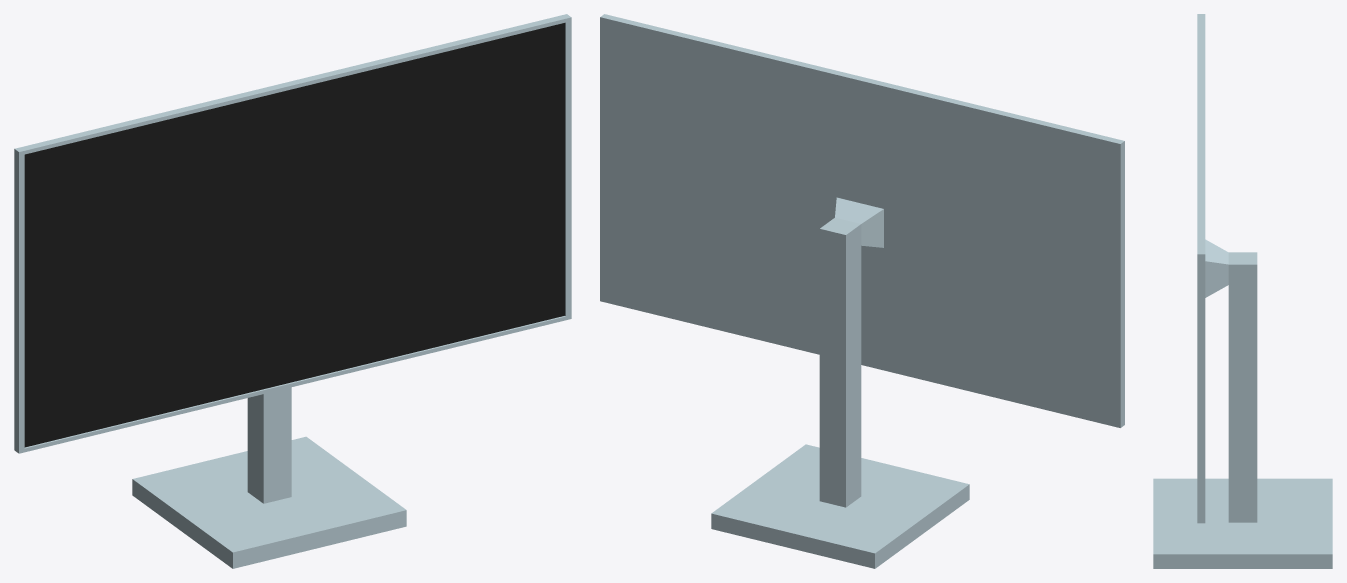
Rendered from screen.gltf.
3 views of the same model, side by side, from view 1: azimuth 30°, elevation 25°; view 2: azimuth 150°, elevation 25°; view 3: azimuth 270°, elevation 25° (orthographic). The views are drawn at different scales.
Parts seen in each view (by area): view 1: Cube; view 2: Cube; view 3: Cube.
Part boxes in pixels (x1,y1,x2,y2): Cube: [14, 14, 571, 568]; Cube: [600, 14, 1124, 568]; Cube: [1153, 14, 1332, 568].
Size of the model in its own units: 6.35 by 4.89 by 2.
1 material, 1 textured.
